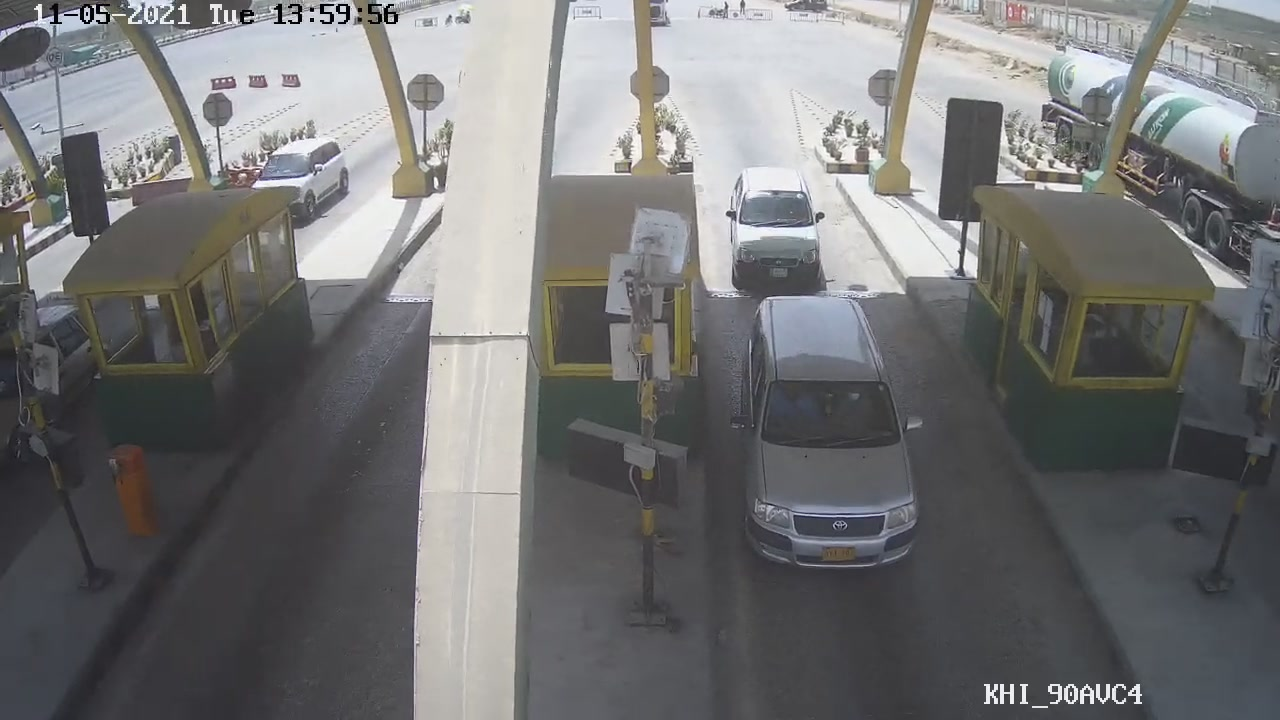F1: (726, 292, 927, 573)
